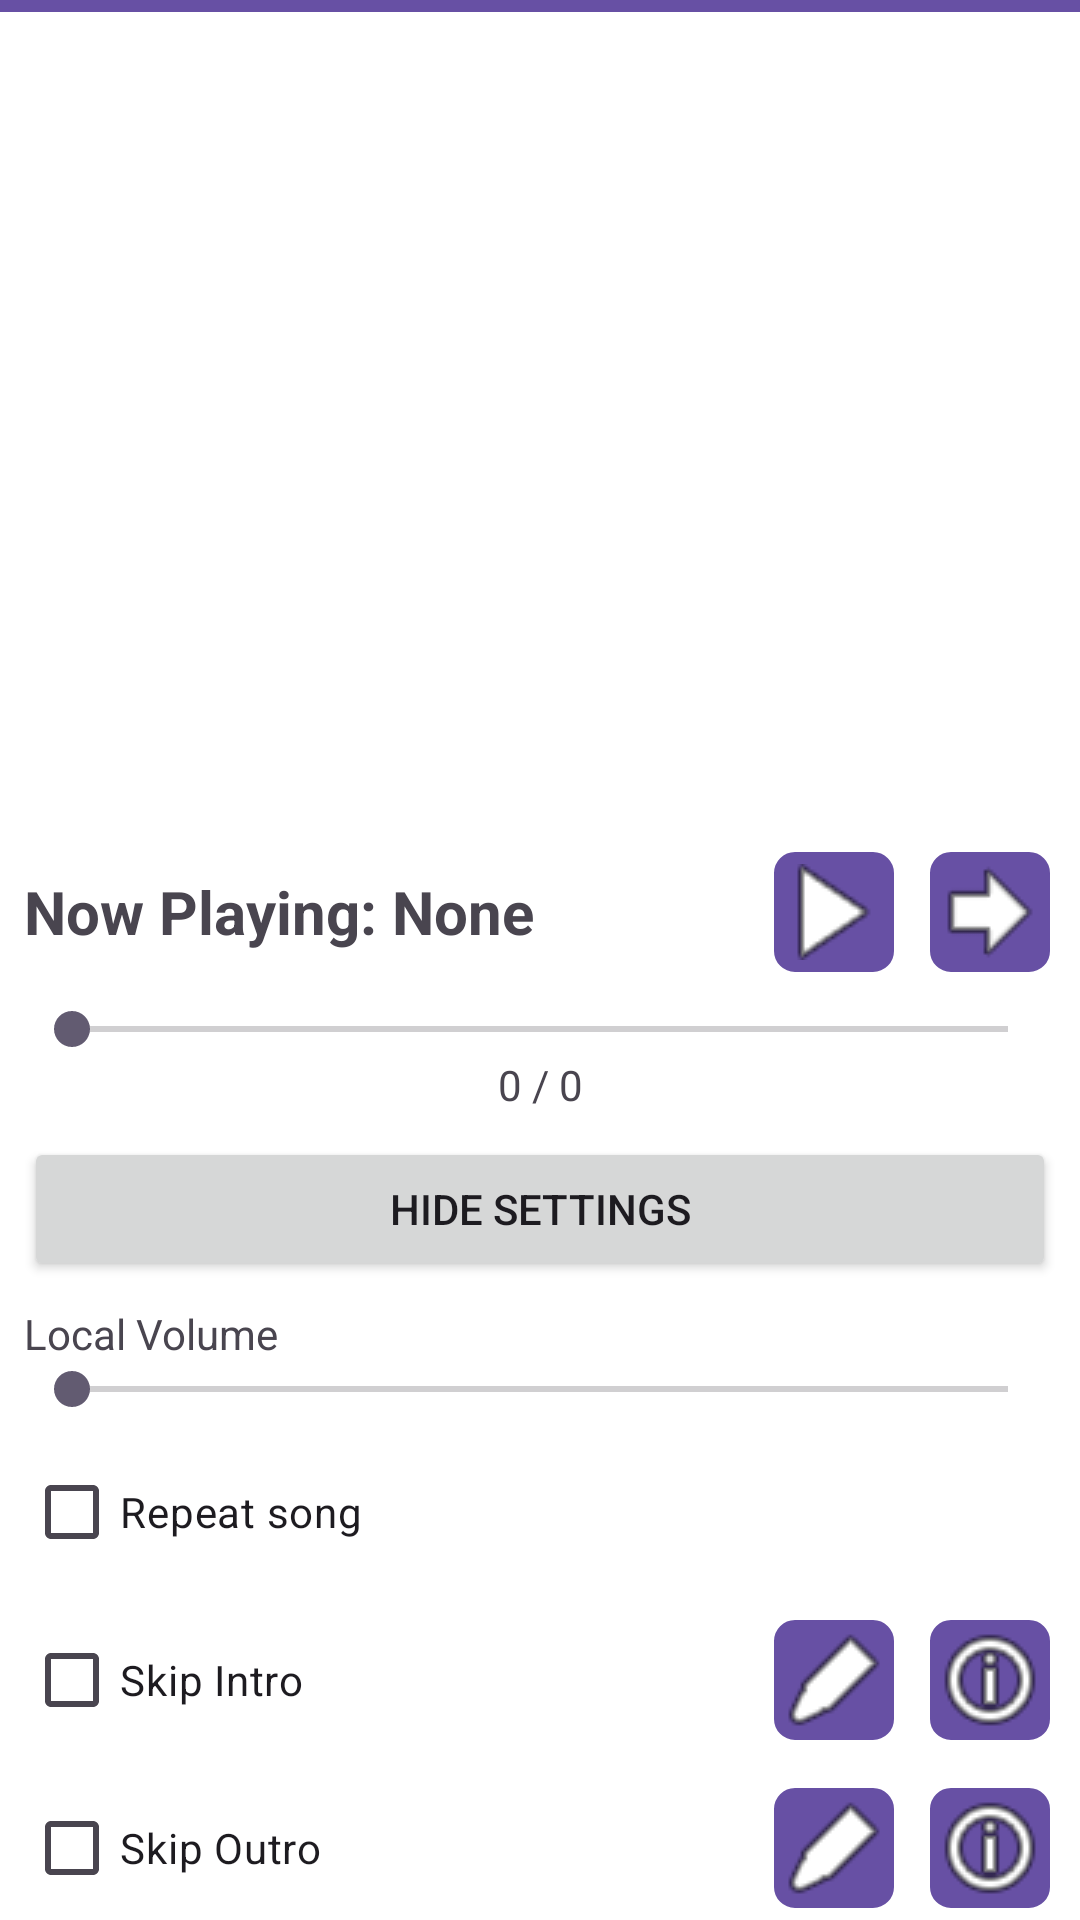

Locate icon controls on the screen. Image size 1080*1920, boxes as region(x1, y1, x2, y2).
info: region(930, 1620, 1050, 1740), region(930, 1788, 1050, 1908)
next: region(930, 852, 1050, 972)
pen: region(774, 1620, 894, 1740), region(774, 1788, 894, 1908)
